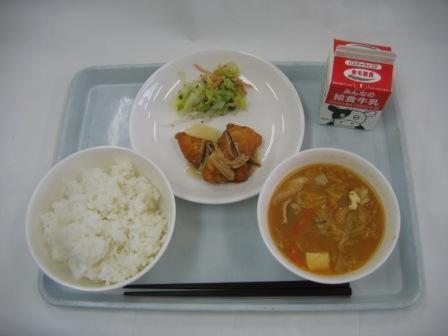Fish: (173, 122, 270, 180), (160, 65, 257, 120)
Milk: (307, 40, 410, 132)
Rice: (22, 155, 185, 295)
vegetable soup: (266, 155, 396, 285)
